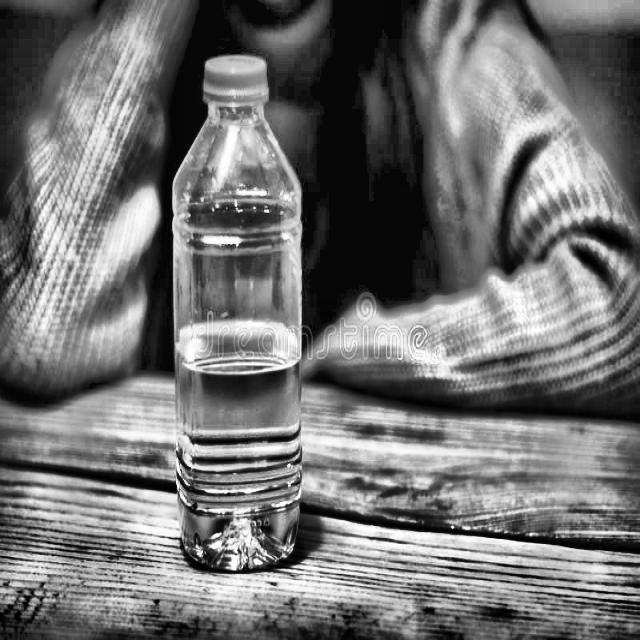waterbottle: (162, 43, 308, 585)
